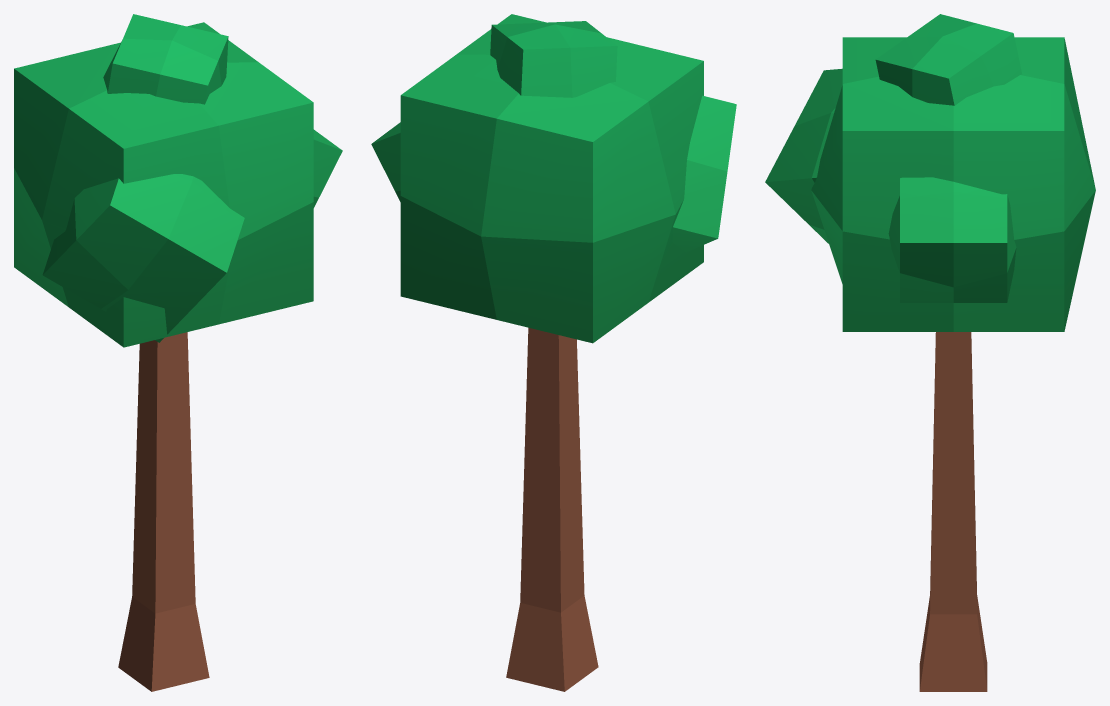
The model's file is Tree_43_gradient_green_pal.fbx.
3 renders of one model, left to right at view 1: azimuth 30°, elevation 25°; view 2: azimuth 150°, elevation 25°; view 3: azimuth 270°, elevation 25°, orthographic.
Visible parts, largest first — view 1: Tree_43_gradient_green_pal; view 2: Tree_43_gradient_green_pal; view 3: Tree_43_gradient_green_pal.
Part boxes in pixels (x1,y1,x2,y2): Tree_43_gradient_green_pal: (14,14,342,691); Tree_43_gradient_green_pal: (371,14,736,691); Tree_43_gradient_green_pal: (765,14,1095,691).
Bounding box in the file's own units: 76.72 × 158 × 73.68.
